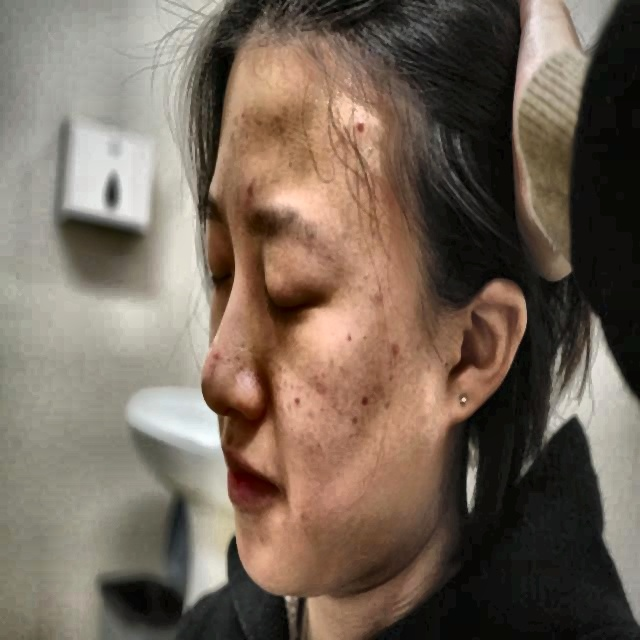comedone: (352, 108, 374, 156), (390, 343, 406, 374), (242, 182, 258, 200)
